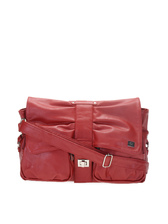bag: (16, 89, 153, 186)
